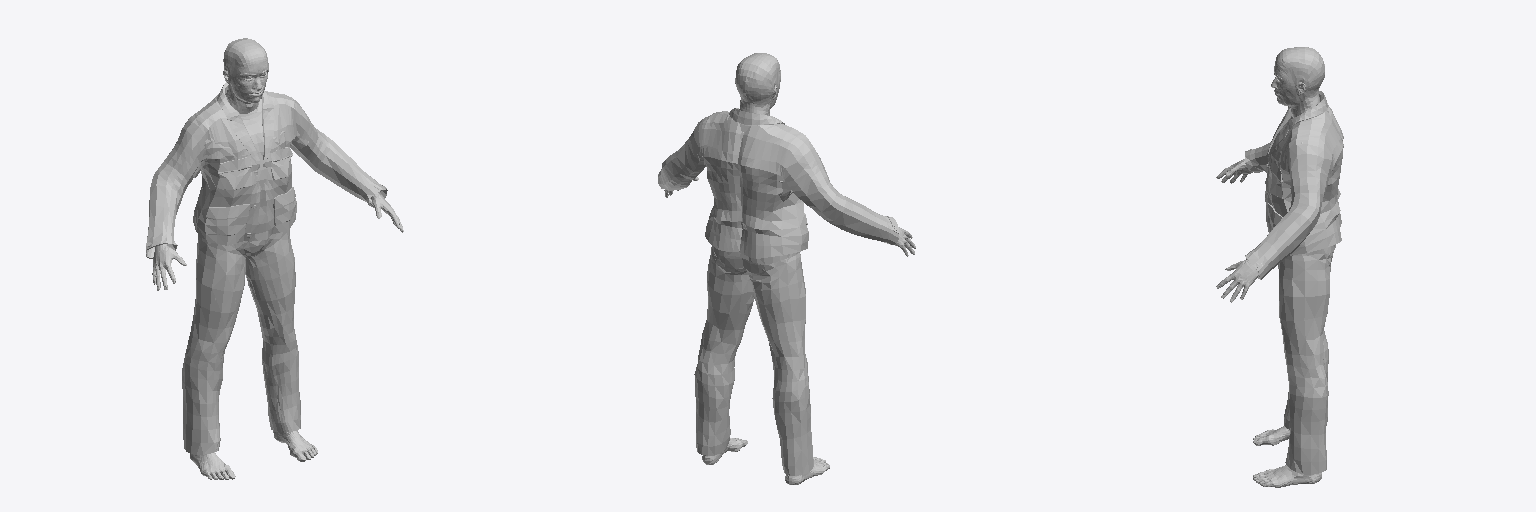
Rendered from Dr William Mills.obj.
3 views of the same model, side by side, from view 1: azimuth 30°, elevation 25°; view 2: azimuth 150°, elevation 25°; view 3: azimuth 270°, elevation 25° (orthographic).
Visible parts, largest first — view 1: jacket01.obj, jeans01.obj, base.obj, tshirt02.obj; view 2: jacket01.obj, jeans01.obj, base.obj, tshirt02.obj; view 3: jacket01.obj, jeans01.obj, base.obj.
Boxes of the visible parts, x1=… form: jacket01.obj: x1=146, y1=82, x2=387, y2=258; jeans01.obj: x1=182, y1=230, x2=300, y2=454; base.obj: x1=152, y1=38, x2=403, y2=479; tshirt02.obj: x1=193, y1=99, x2=308, y2=244; jacket01.obj: x1=658, y1=108, x2=899, y2=258; jeans01.obj: x1=694, y1=247, x2=813, y2=475; base.obj: x1=664, y1=53, x2=915, y2=484; tshirt02.obj: x1=704, y1=132, x2=799, y2=264; jacket01.obj: x1=1245, y1=91, x2=1343, y2=279; jeans01.obj: x1=1278, y1=252, x2=1333, y2=474; base.obj: x1=1216, y1=47, x2=1332, y2=487.
Bounding box in the file's own units: 1.12 × 1.8 × 0.5018.